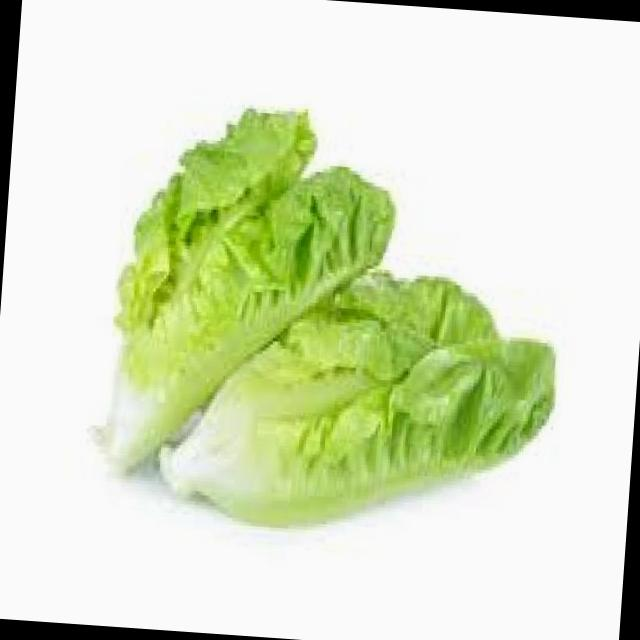Lettuce-Ready-to-Harvest: (111, 109, 393, 468), (162, 270, 552, 525)
